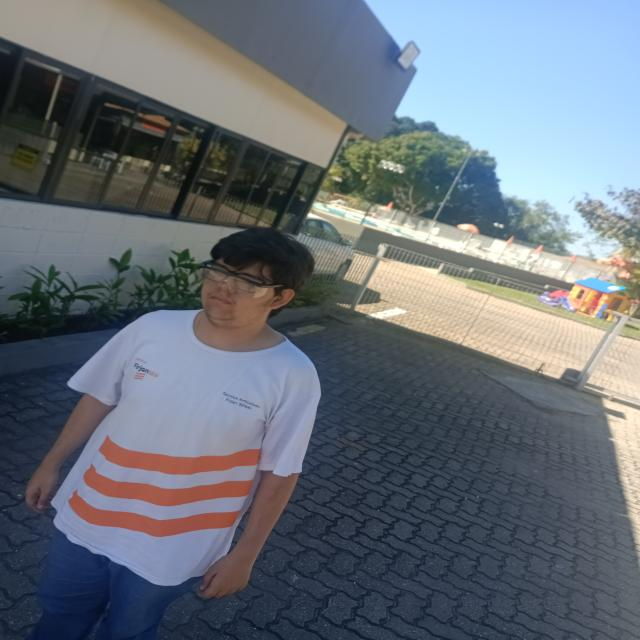oculos-epi: (198, 265, 284, 298)
